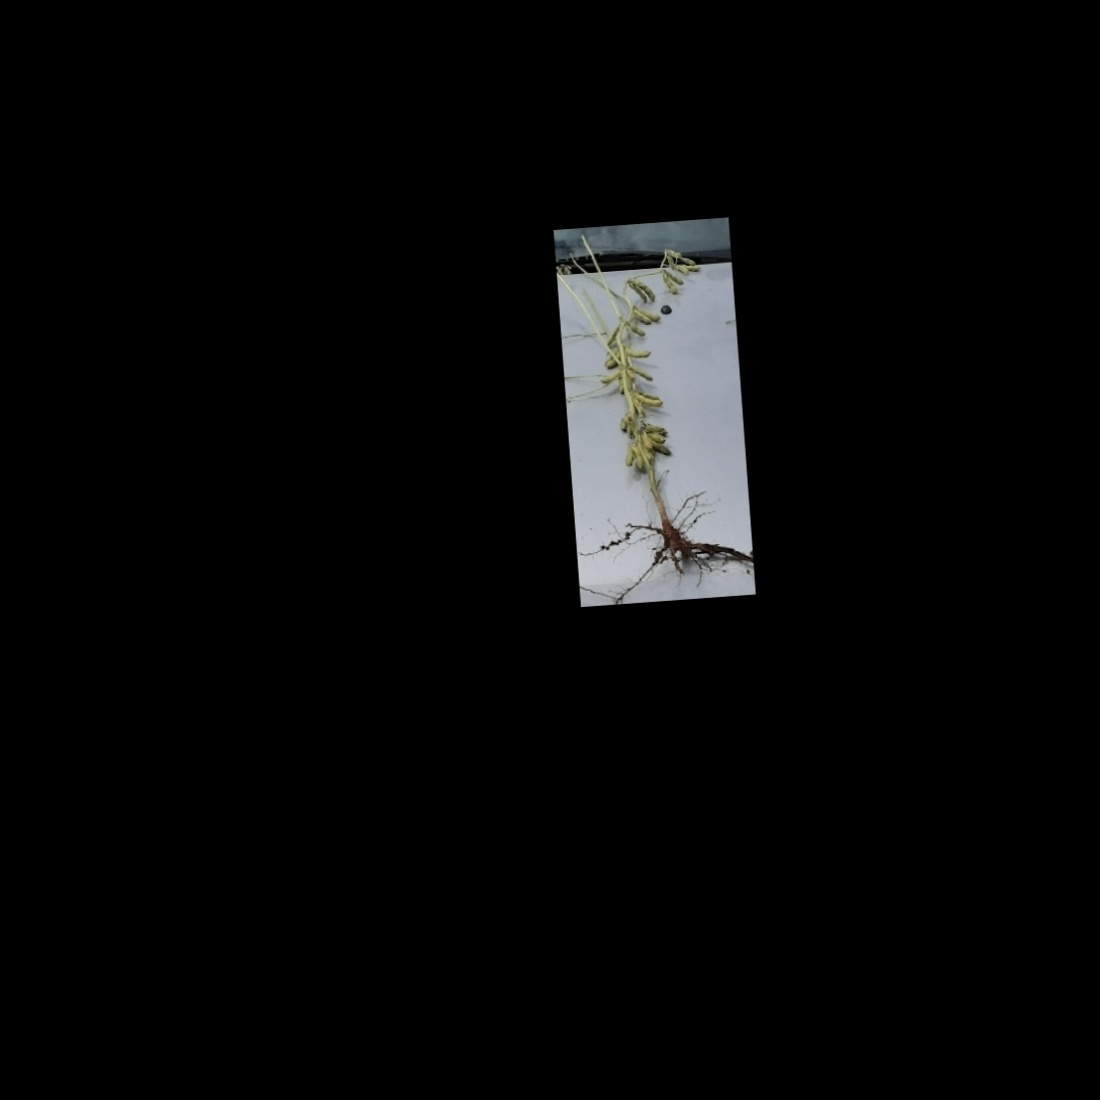pod: (624, 360, 657, 387), (628, 390, 665, 412), (628, 278, 658, 304), (628, 278, 650, 309), (620, 345, 655, 362), (662, 266, 685, 289), (662, 271, 679, 299), (594, 371, 624, 386), (674, 252, 699, 269), (620, 445, 636, 469), (667, 247, 685, 260)
soy: (569, 232, 733, 572)
